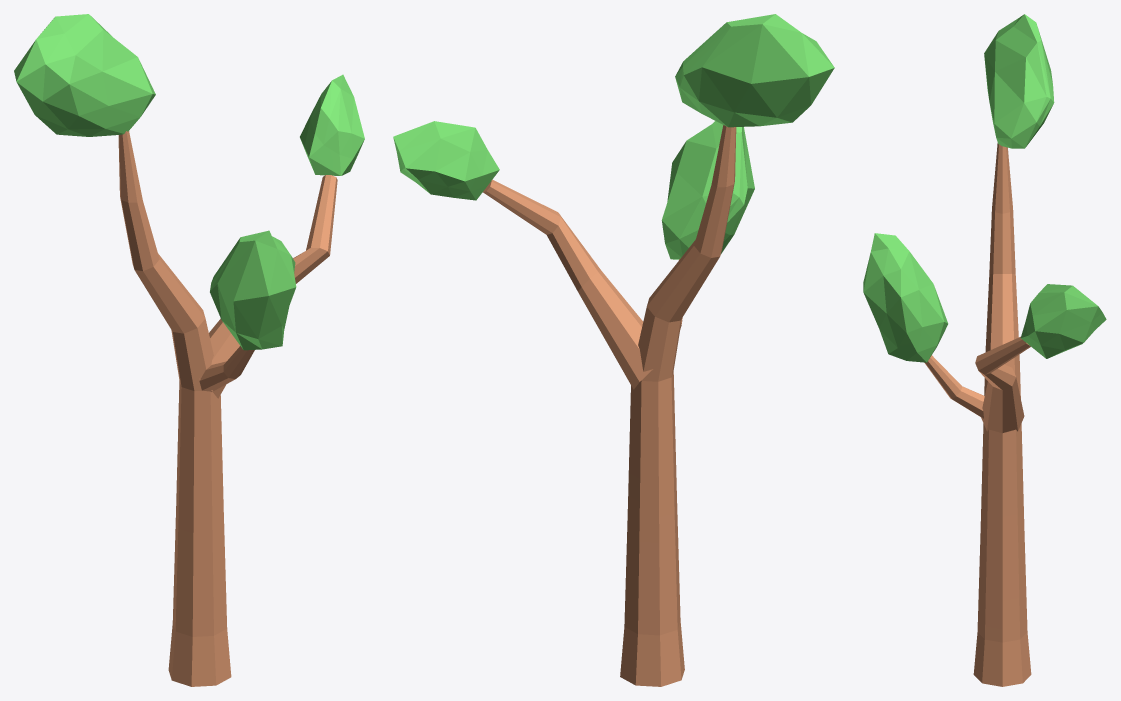
The model's file is Tree_6.fbx.
3 renders of one model, left to right at view 1: azimuth 30°, elevation 25°; view 2: azimuth 150°, elevation 25°; view 3: azimuth 270°, elevation 25°, orthographic. The views are drawn at different scales.
Parts seen in each view (by area): view 1: Tree_6; view 2: Tree_6; view 3: Tree_6.
Boxes of the visible parts, box(x1,y1,x2,y2) form: Tree_6: box(14, 14, 364, 686); Tree_6: box(393, 14, 834, 686); Tree_6: box(863, 14, 1106, 686).
Size of the model in its own units: 3017 by 5179 by 1892.
